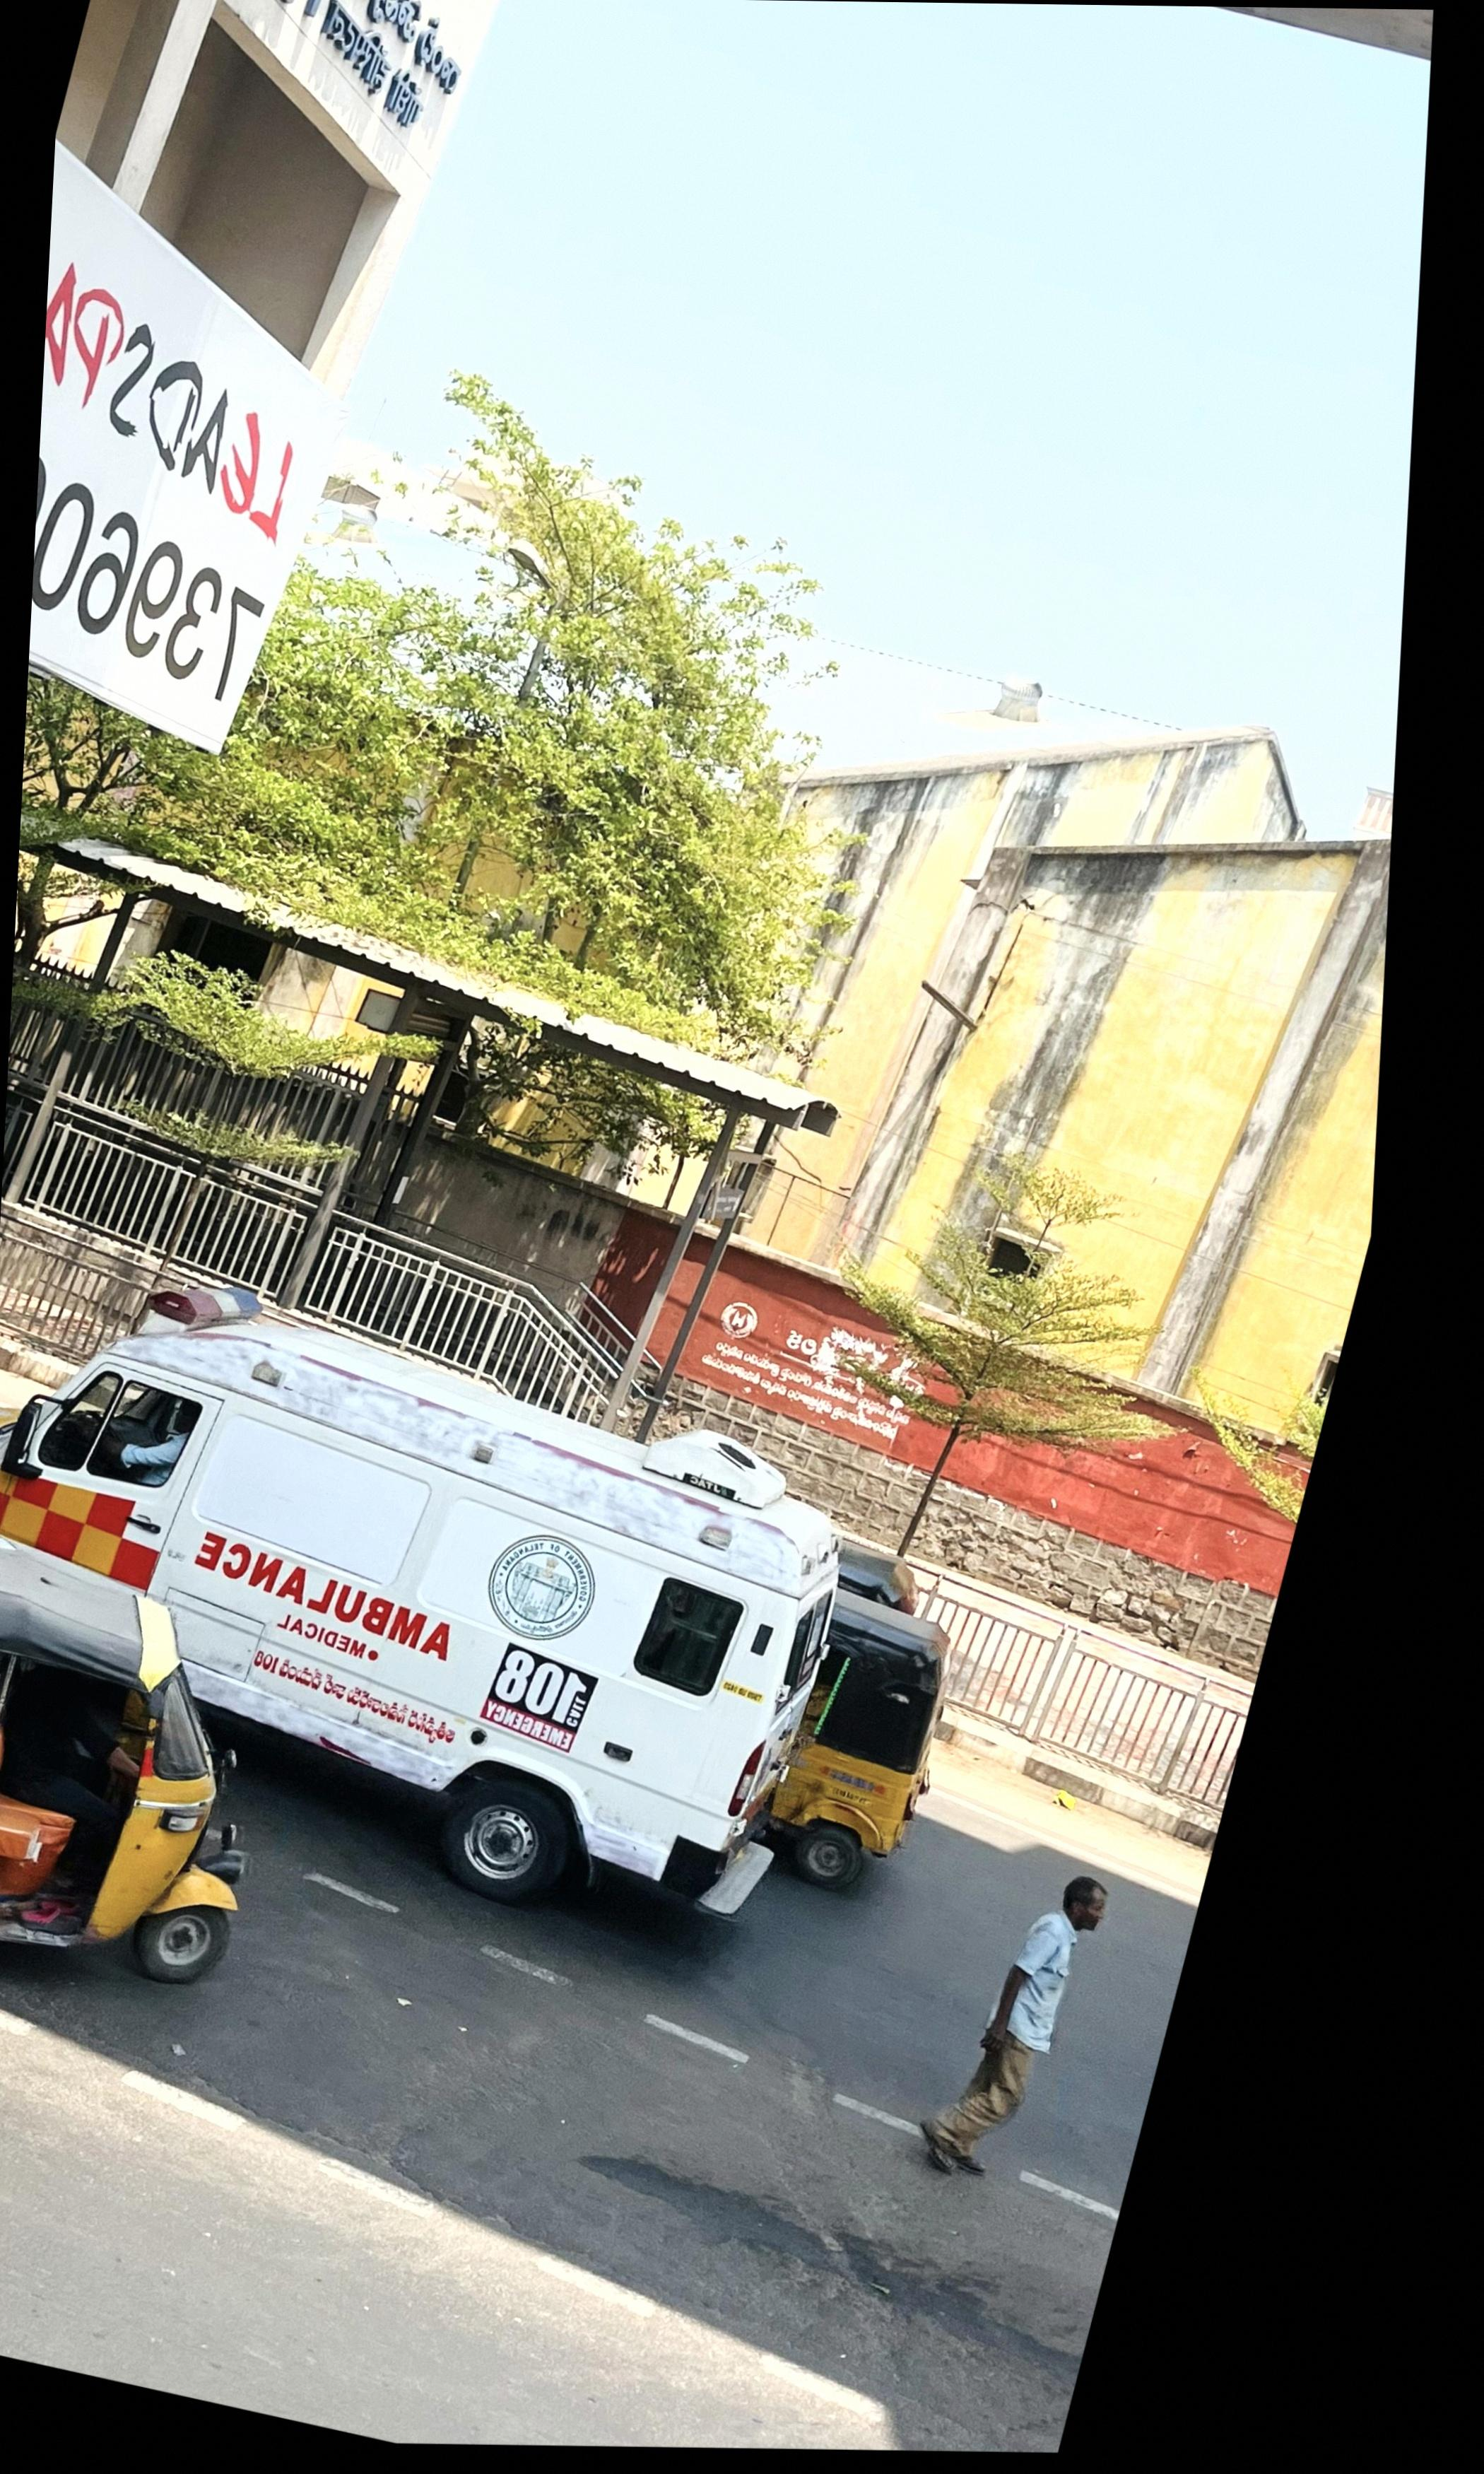ambulance: (0, 1286, 843, 1901)
